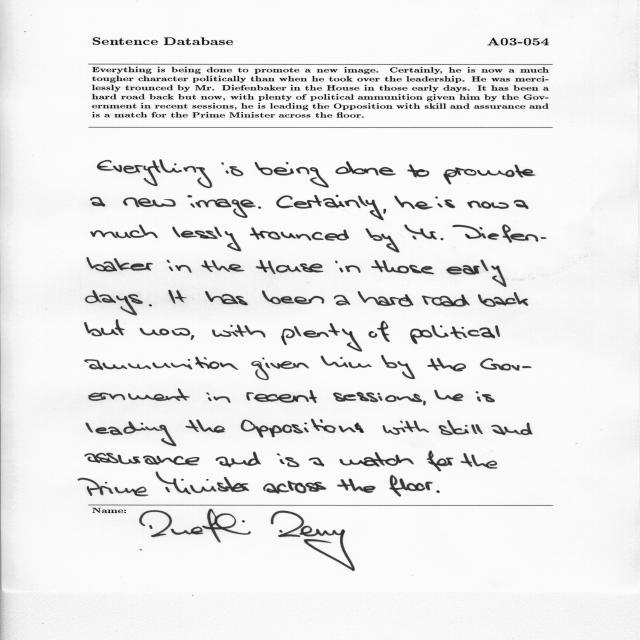word: (98, 160, 213, 188), (276, 195, 384, 220), (281, 323, 362, 352), (241, 419, 364, 438), (86, 421, 176, 446), (156, 472, 249, 494), (84, 357, 238, 370), (255, 162, 329, 188), (443, 165, 536, 185), (173, 227, 242, 252), (410, 325, 500, 344), (446, 259, 507, 287), (453, 225, 547, 243), (187, 195, 256, 218), (85, 290, 143, 315), (250, 227, 349, 241), (85, 453, 200, 465), (251, 358, 309, 381), (78, 478, 148, 496), (89, 389, 190, 401), (340, 452, 414, 467), (87, 257, 153, 272), (256, 260, 324, 274), (389, 475, 433, 496), (247, 390, 318, 403), (335, 161, 396, 176), (333, 392, 423, 402), (358, 291, 414, 307), (371, 260, 434, 274), (91, 225, 158, 238), (262, 291, 324, 305), (366, 228, 400, 253), (263, 481, 326, 494), (381, 355, 415, 379), (478, 292, 528, 307), (383, 420, 429, 435), (480, 358, 532, 371), (438, 420, 483, 435), (216, 452, 261, 467), (140, 328, 194, 340), (85, 320, 125, 336), (422, 294, 470, 307), (321, 356, 372, 368), (205, 291, 248, 305), (461, 453, 498, 469), (405, 225, 444, 240), (337, 478, 376, 493), (185, 419, 225, 433), (394, 196, 433, 210), (427, 451, 454, 471), (123, 198, 176, 208), (201, 260, 245, 272), (428, 358, 467, 371), (491, 423, 533, 435), (368, 321, 390, 342), (231, 325, 266, 338), (467, 200, 509, 209), (434, 390, 464, 401), (167, 260, 192, 273), (335, 261, 361, 273), (222, 162, 244, 176), (277, 453, 299, 467), (407, 165, 429, 178), (168, 290, 187, 304), (207, 392, 231, 403), (435, 197, 455, 208), (475, 392, 495, 403), (212, 329, 238, 337), (334, 295, 350, 305), (91, 197, 105, 207), (309, 458, 324, 467), (514, 200, 528, 209), (384, 209, 387, 214), (423, 401, 426, 406), (436, 490, 440, 493), (258, 206, 261, 209), (149, 304, 152, 307)
